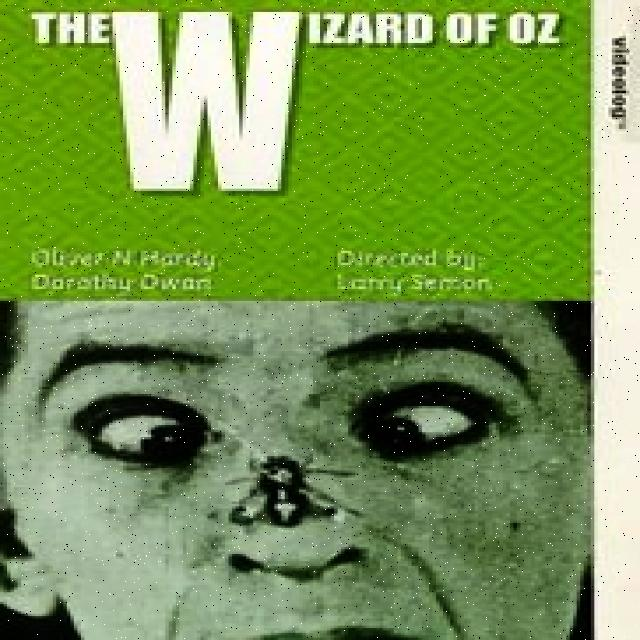movie-judul: (30, 5, 582, 196)
picture: (3, 301, 591, 640)
